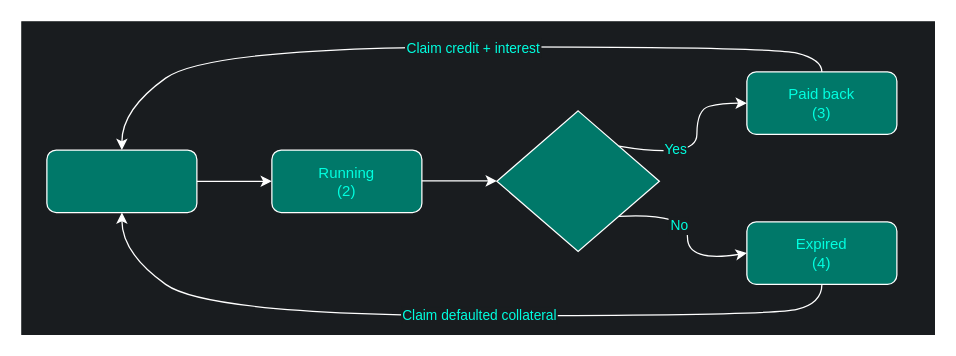
Some shapes in this 956 by 356 pixel diagram are drawn without their labels. Here are the shapes that lost their labels. From the top down, the box of each, then its label:
(46, 149, 197, 212): Dead/None (0)
(496, 110, 659, 252): Loan repaid before expiration
